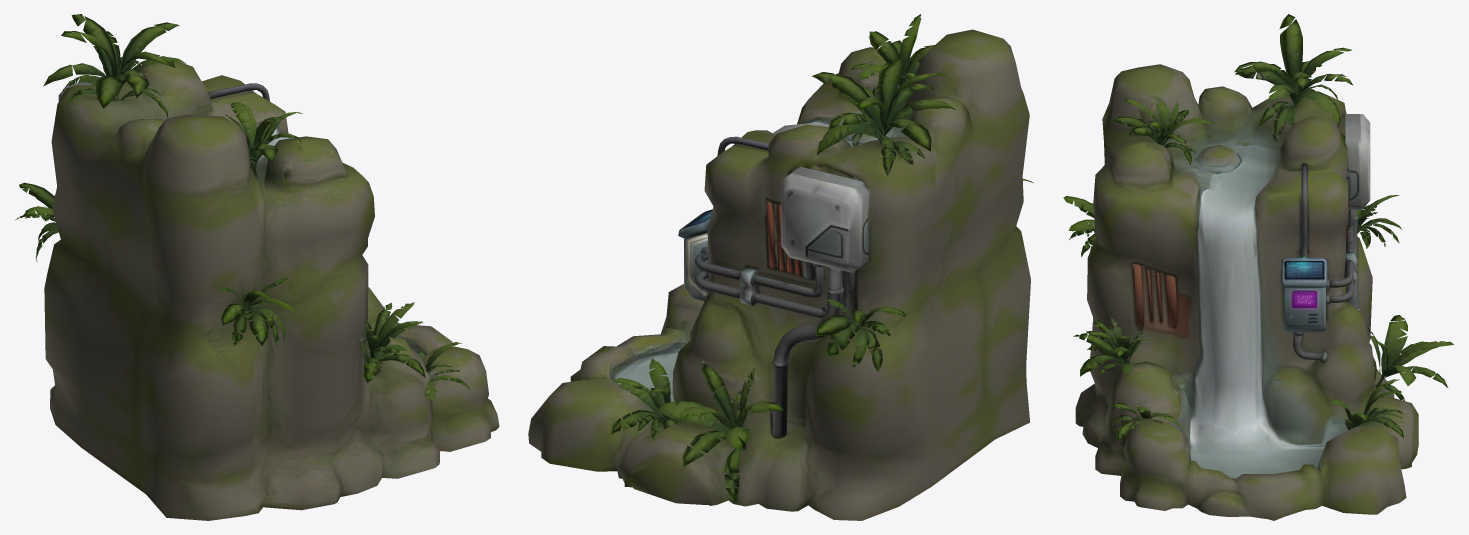
File: cascade.glb
3 views of the same model, side by side, from view 1: azimuth 30°, elevation 25°; view 2: azimuth 150°, elevation 25°; view 3: azimuth 270°, elevation 25° (orthographic). The views are drawn at different scales.
Parts seen in each view (by area): view 1: Body; view 2: Body; view 3: Body.
Part boxes in pixels (x1=…): Body: x1=15, y1=14, x2=499, y2=520; Body: x1=528, y1=14, x2=1033, y2=520; Body: x1=1063, y1=14, x2=1453, y2=520.
Bounding box in the file's own units: 7.59 × 8 × 8.06.
1 material, 1 textured.
